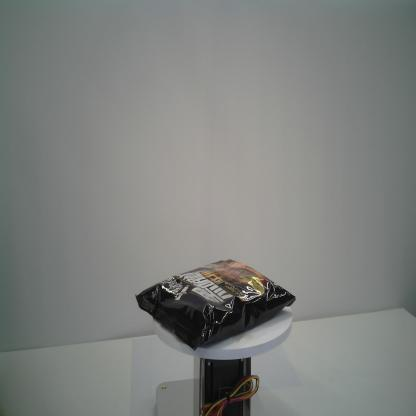Instant Noodles: (131, 256, 295, 353)
